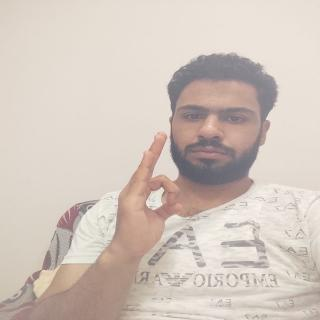Space: (94, 129, 194, 249)
